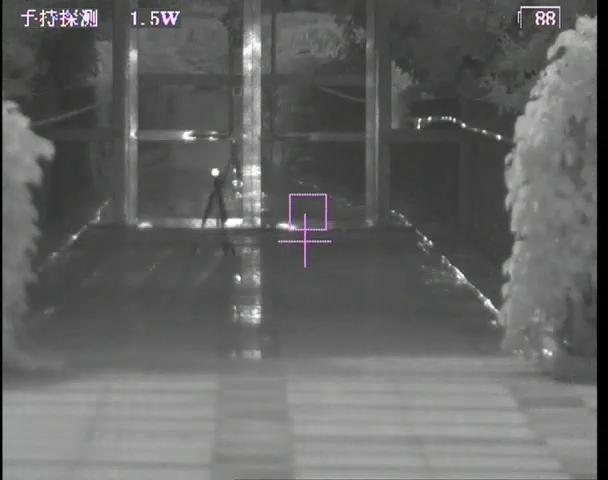my: (209, 166, 220, 177)
